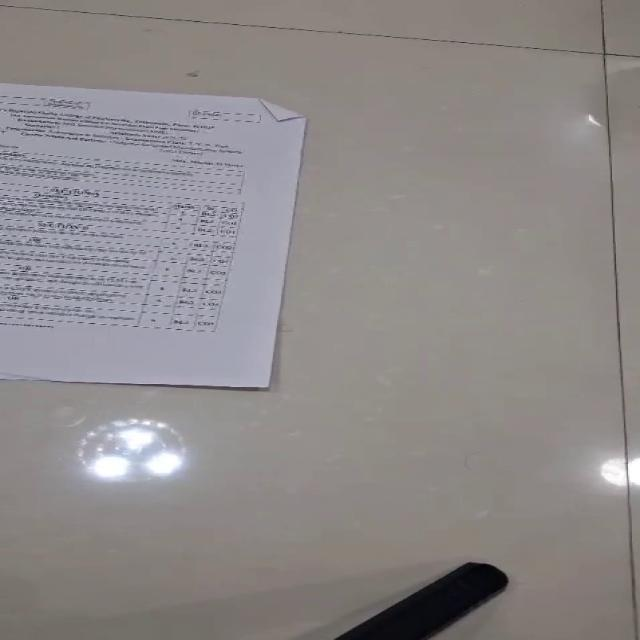paper: (0, 82, 308, 390)
